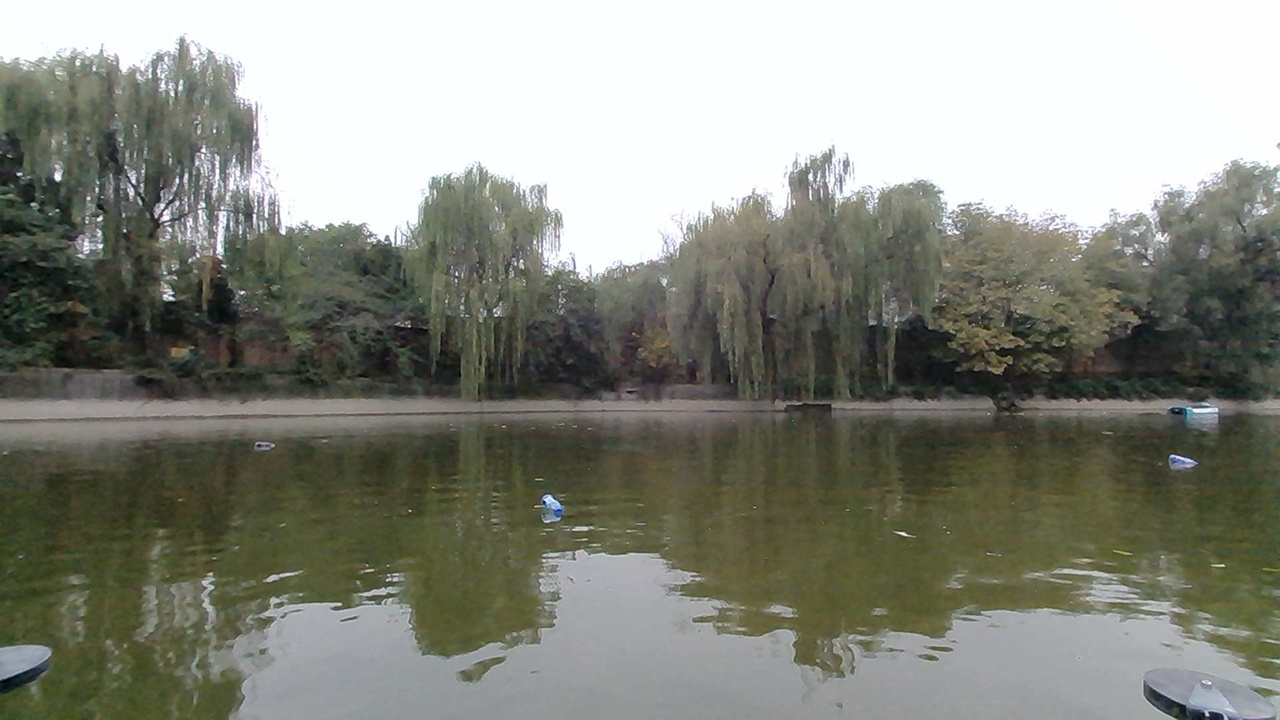bottle: (529, 488, 579, 525), (1159, 443, 1204, 477), (249, 423, 281, 457)
